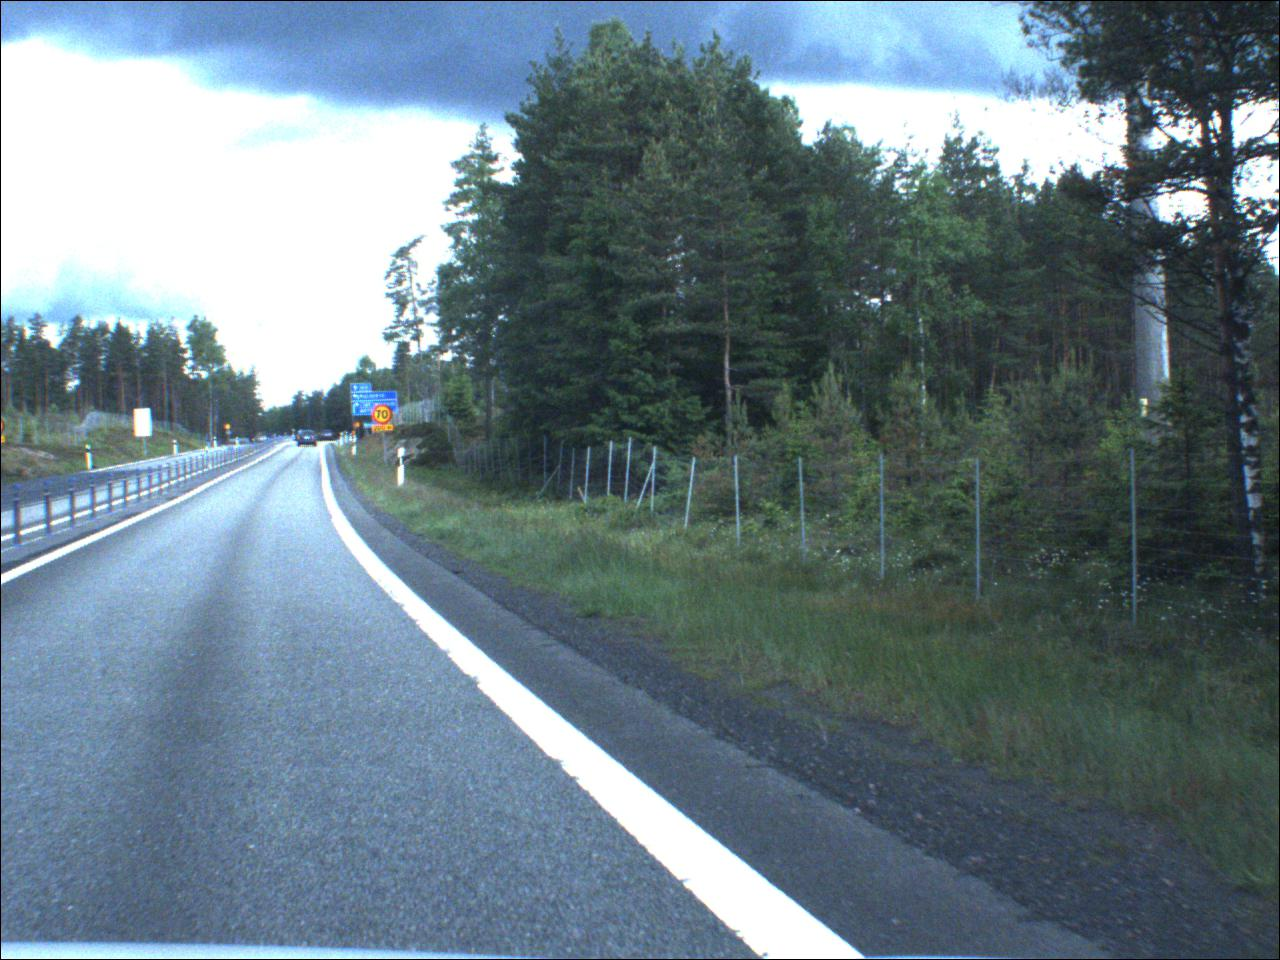70_SIGN: (374, 405, 396, 426), (226, 425, 233, 433), (356, 423, 362, 430)
